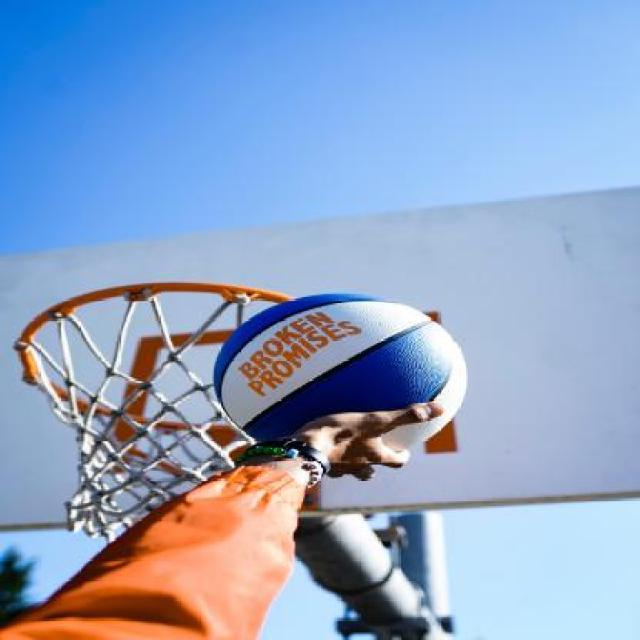basketball: (214, 292, 468, 454)
